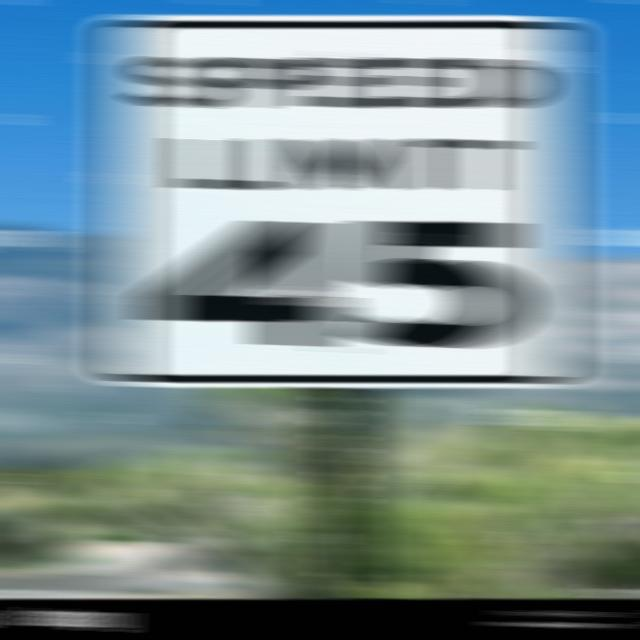speedLimit45: (105, 23, 580, 390)
